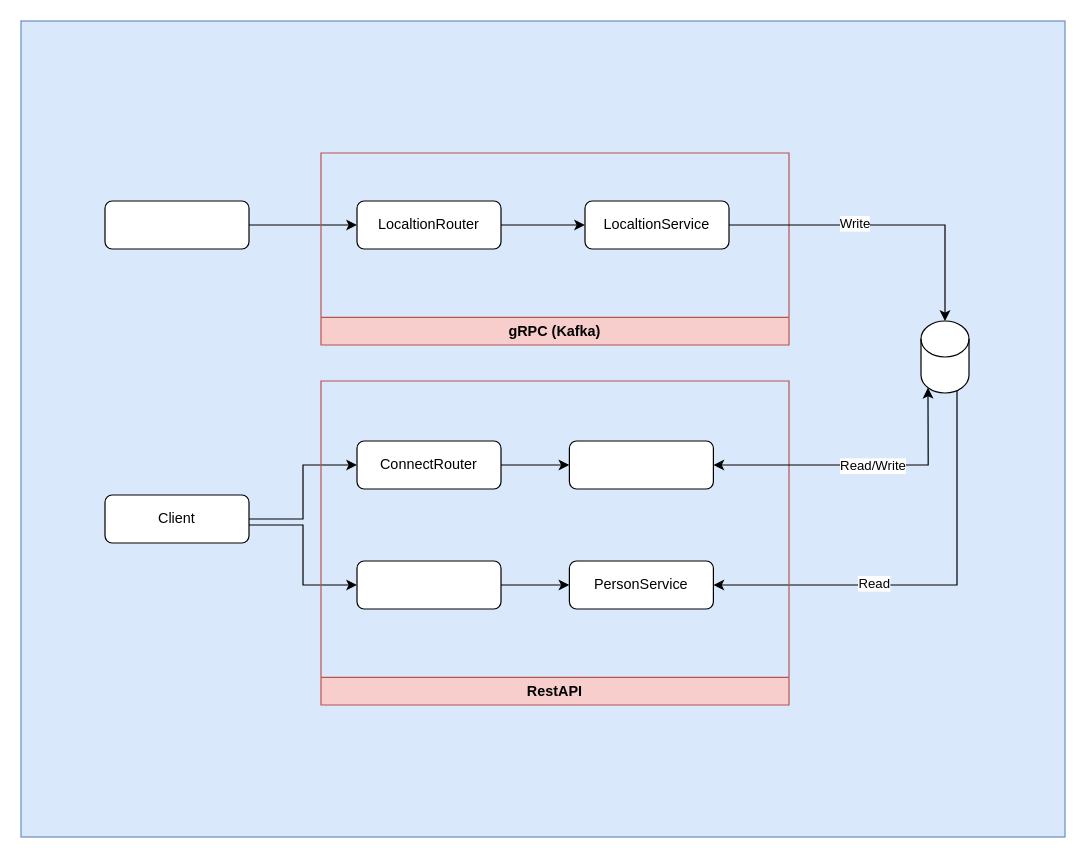
Image size: 1086x858. Some labels were removed from this diagram. The centre of each missing label's shape, as x and y in pixels:
Client gRPC: the point at 176,224
ConnectService: the point at 640,464
DB: the point at 944,356
PersonRouter: the point at 428,584
